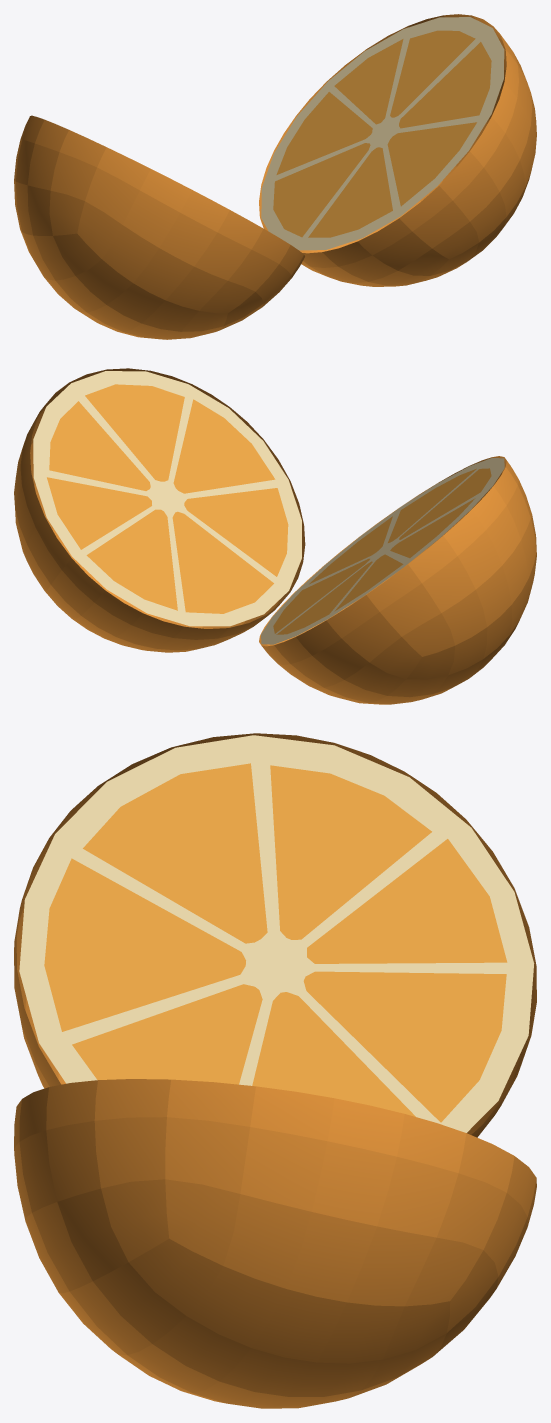
Rendered from Yarim_Portakal.fbx.
The picture shows the model from 3 angles, top to bottom: view 1: azimuth 30°, elevation 25°; view 2: azimuth 150°, elevation 25°; view 3: azimuth 270°, elevation 25°; orthographic projection. The views are drawn at different scales.
Parts seen in each view (by area): view 1: orange_Roundcube.001; view 2: orange_Roundcube.001; view 3: orange_Roundcube.001.
Part boxes in pixels (x1,y1,x2,y2): orange_Roundcube.001: (14,14,536,339); orange_Roundcube.001: (14,368,536,704); orange_Roundcube.001: (14,733,536,1408).
Bounding box in the file's own units: 901 × 404 × 498.
